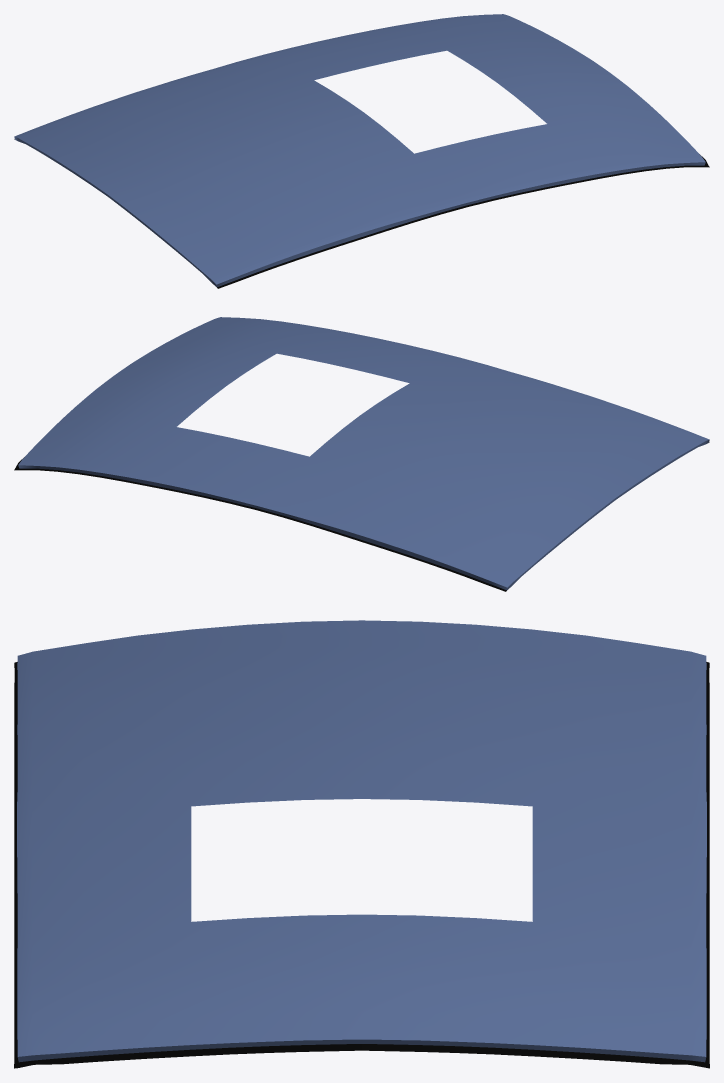
3 renders of one model, top to bottom at view 1: azimuth 30°, elevation 25°; view 2: azimuth 150°, elevation 25°; view 3: azimuth 270°, elevation 25°, orthographic. The views are drawn at different scales.
Parts seen in each view (by area): view 1: U236_17_341B_C_U236_17_341B_C_1_DaS, U236_17_341B_C_U236_17_341B_C_1_DaS_E, U236_17_341B_C_2_D_U236_17_341B_C; view 2: U236_17_341B_C_U236_17_341B_C_1_DaS, U236_17_341B_C_U236_17_341B_C_1_DaS_E, U236_17_341B_C_2_D_U236_17_341B_C; view 3: U236_17_341B_C_U236_17_341B_C_1_DaS, U236_17_341B_C_2_D_U236_17_341B_C, U236_17_341B_C_U236_17_341B_C_1_DaS_E.
Part boxes in pixels (x1,y1,x2,y2): U236_17_341B_C_U236_17_341B_C_1_DaS: (14,14,705,284); U236_17_341B_C_U236_17_341B_C_1_DaS_E: (14,136,705,287); U236_17_341B_C_2_D_U236_17_341B_C: (14,139,709,288); U236_17_341B_C_U236_17_341B_C_1_DaS: (18,317,709,587); U236_17_341B_C_U236_17_341B_C_1_DaS_E: (18,439,709,590); U236_17_341B_C_2_D_U236_17_341B_C: (14,442,709,591); U236_17_341B_C_U236_17_341B_C_1_DaS: (17,620,706,1056); U236_17_341B_C_2_D_U236_17_341B_C: (14,662,709,1068); U236_17_341B_C_U236_17_341B_C_1_DaS_E: (17,1039,706,1062).
Bounding box in the file's own units: 132 × 10.18 × 92.04.
